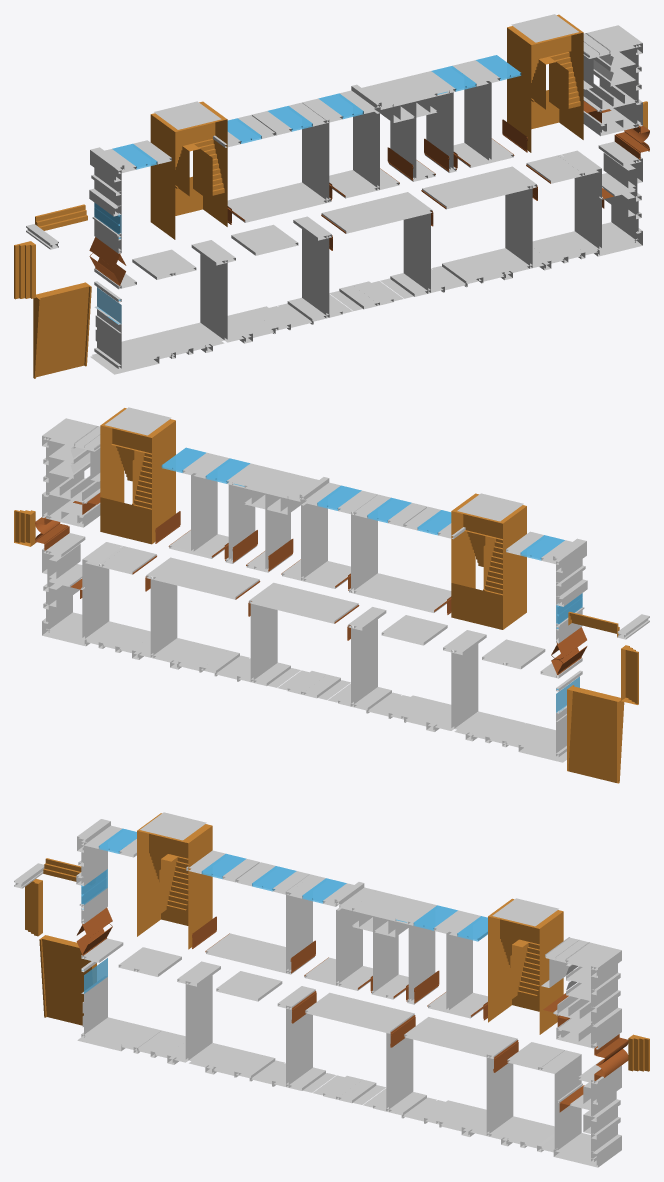
File: building_full.obj
The picture shows the model from 3 angles, top to bottom: view 1: azimuth 30°, elevation 25°; view 2: azimuth 150°, elevation 25°; view 3: azimuth 330°, elevation 25°; orthographic projection.
Parts seen in each view (by area): view 1: Wall, Stair, Window, Door; view 2: Wall, Stair, Window, Door; view 3: Wall, Stair, Door, Window.
Part boxes in pixels (x1,y1,x2,y2): Wall: (26,14,642,374); Stair: (14,14,647,378); Window: (94,55,521,324); Door: (89,101,649,285); Wall: (42,407,649,762); Stair: (14,408,638,783); Window: (161,447,582,712); Door: (35,493,587,674); Wall: (14,812,621,1167); Stair: (25,813,649,1071); Door: (76,907,628,1112); Window: (81,828,487,993).
Bounding box in the file's own units: 44776 × 16001 × 3900.
